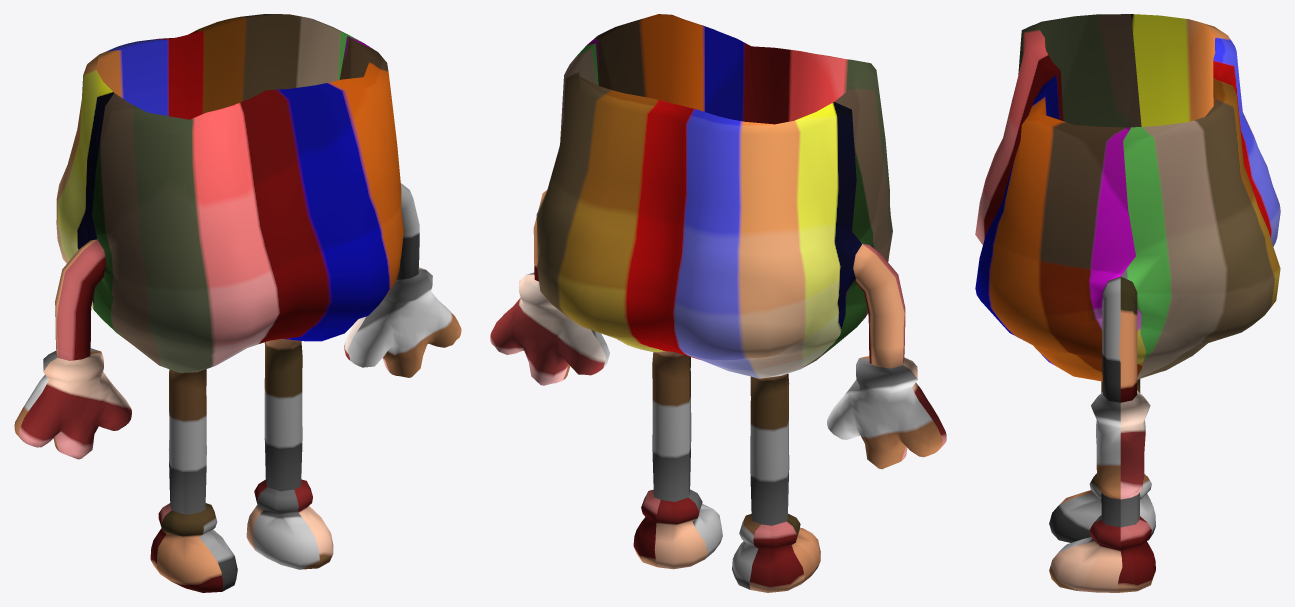
File: BrainCellLow.fbx
3 views of the same model, side by side, from view 1: azimuth 30°, elevation 25°; view 2: azimuth 150°, elevation 25°; view 3: azimuth 270°, elevation 25° (orthographic). The views are drawn at different scales.
Visible parts, largest first — view 1: BrainLow; view 2: BrainLow; view 3: BrainLow.
Part boxes in pixels (x1,y1,x2,y2): BrainLow: (14, 14, 461, 592); BrainLow: (490, 14, 946, 592); BrainLow: (975, 14, 1280, 592).
Bounding box in the file's own units: 377 × 401 × 228.
